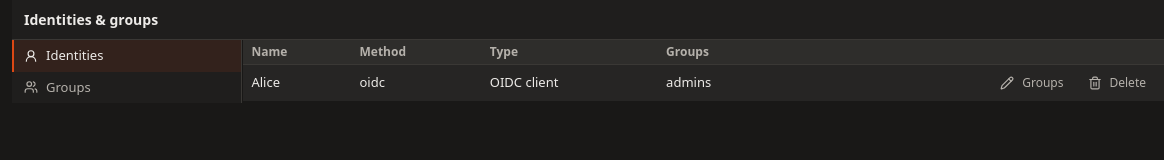
Scenario: IdentitiesPage › uses vertical side tabs for identities and groups
Expected: the text "Alice" is shown, [251, 73, 280, 91]
Expected: the element with test id "vertical-tabs" is shown, [12, 40, 242, 103]
Step 1. Click the tab with test id "vtab-groups" → [127, 87], box [12, 72, 241, 103]
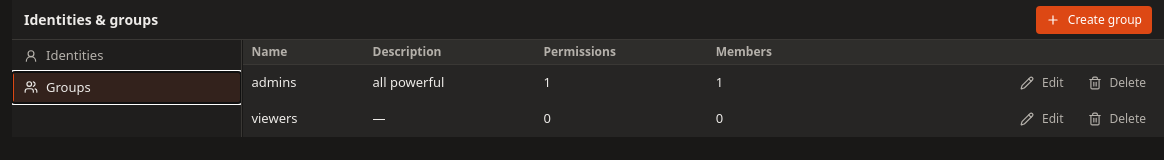
Now the table with test id "authgroups-table" is shown, box [243, 40, 1163, 137]
Now the button with test id "authgroup-create-open" is shown, box [1036, 6, 1152, 34]
